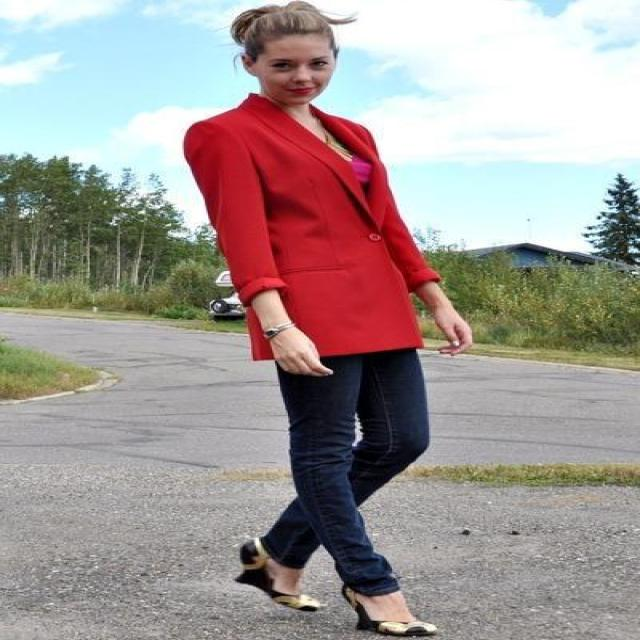jacket: (184, 95, 437, 373)
pants: (266, 348, 427, 600)
shoe: (250, 550, 408, 621)
